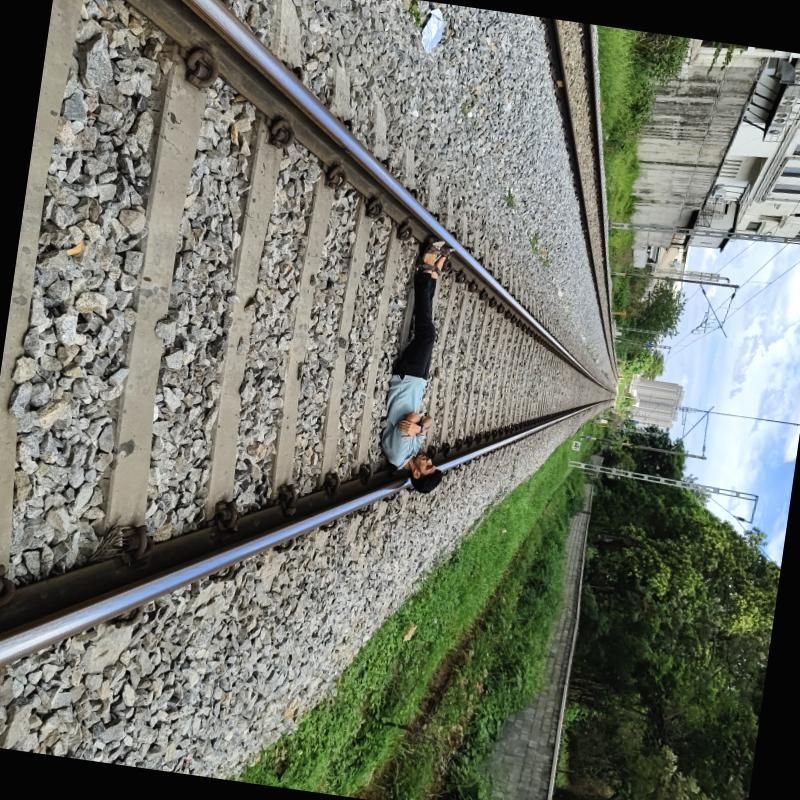sleeping: (368, 228, 487, 510)
